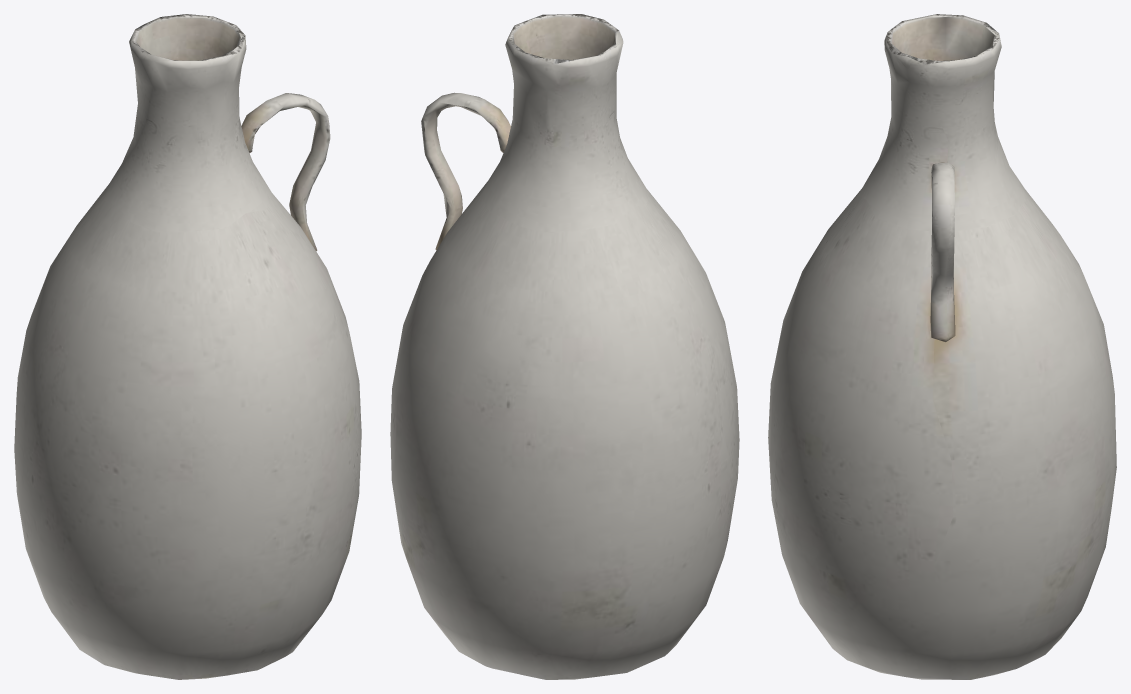
The model's file is ceramic_vase_04.glb.
3 renders of one model, left to right at view 1: azimuth 30°, elevation 25°; view 2: azimuth 150°, elevation 25°; view 3: azimuth 270°, elevation 25°, orthographic.
Visible parts, largest first — view 1: lod0; view 2: lod0; view 3: lod0.
Boxes of the visible parts, x1,y1,x2,y2 form: lod0: (14,14,361,679); lod0: (390,14,739,679); lod0: (768,14,1116,679).
Size of what is drawn, in the model's own units: 0.181 by 0.342 by 0.181.
1 material, 1 textured.
